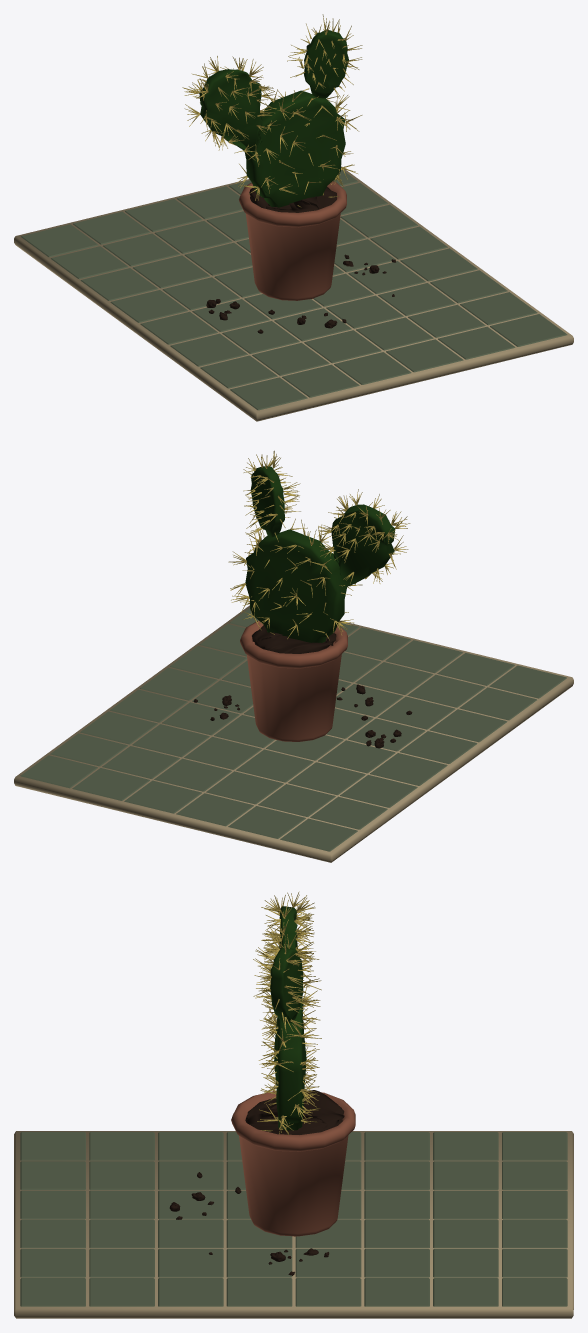
The model's file is cactus_v2.glb.
The picture shows the model from 3 angles, top to bottom: view 1: azimuth 30°, elevation 25°; view 2: azimuth 150°, elevation 25°; view 3: azimuth 270°, elevation 25°; orthographic projection. The views are drawn at different scales.
Parts seen in each view (by area): view 1: Tile, Spikes.001, Dirt.001; view 2: Tile, Spikes.001, Dirt.001; view 3: Tile, Spikes.001, Dirt.001.
Part boxes in pixels (x1,y1,x2,y2): Tile: (14,166,573,421); Spikes.001: (182,14,362,300); Dirt.001: (206,254,396,333); Tile: (14,605,573,862); Spikes.001: (228,450,410,741); Dirt.001: (193,684,412,748); Tile: (14,1131,573,1318); Spikes.001: (231,891,355,1236); Dirt.001: (169,1172,329,1275).
Bounding box in the file's own units: 4.99 × 4.1 × 6.6.
